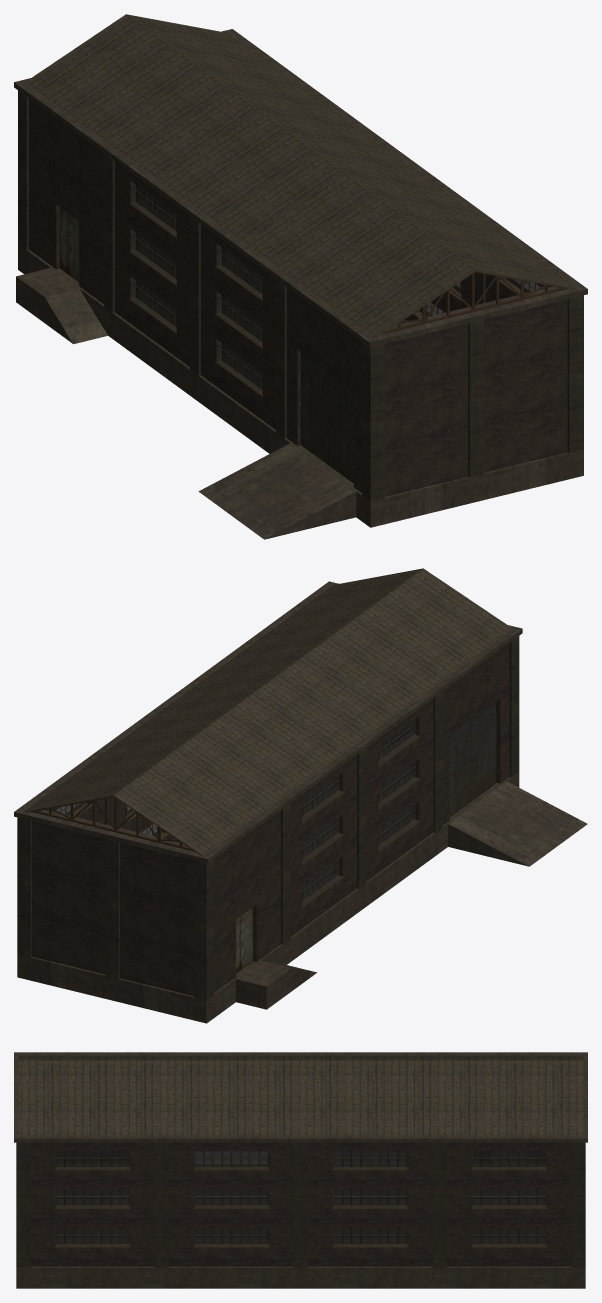
Rendered from warehouse_mx_4.obj.
3 views of the same model, one above another, from view 1: azimuth 30°, elevation 25°; view 2: azimuth 150°, elevation 25°; view 3: azimuth 270°, elevation 25° (orthographic). The views are drawn at different scales.
Visible parts, largest first — view 1: warehouse_mx_4, garage_door_hr_4_a_piece_1, garage_door_hr_4_a_piece_2, door_hm_1_a_piece_2; view 2: warehouse_mx_4, garage_door_hr_4_a_piece_2, garage_door_hr_4_a_piece_1, door_hm_1_a_piece_2; view 3: warehouse_mx_4.
Boxes of the visible parts, left/top/right/bottom form: warehouse_mx_4: left=14, top=14, right=587, bottom=539; garage_door_hr_4_a_piece_1: left=301, top=352, right=328, bottom=465; garage_door_hr_4_a_piece_2: left=329, top=373, right=353, bottom=483; door_hm_1_a_piece_2: left=68, top=214, right=79, bottom=282; warehouse_mx_4: left=14, top=568, right=587, bottom=1023; garage_door_hr_4_a_piece_2: left=471, top=701, right=496, bottom=800; garage_door_hr_4_a_piece_1: left=450, top=719, right=471, bottom=816; door_hm_1_a_piece_2: left=240, top=907, right=253, bottom=969; warehouse_mx_4: left=14, top=1052, right=587, bottom=1288.
Size of the model in its own units: 12.4 by 8.87 by 24.8.
